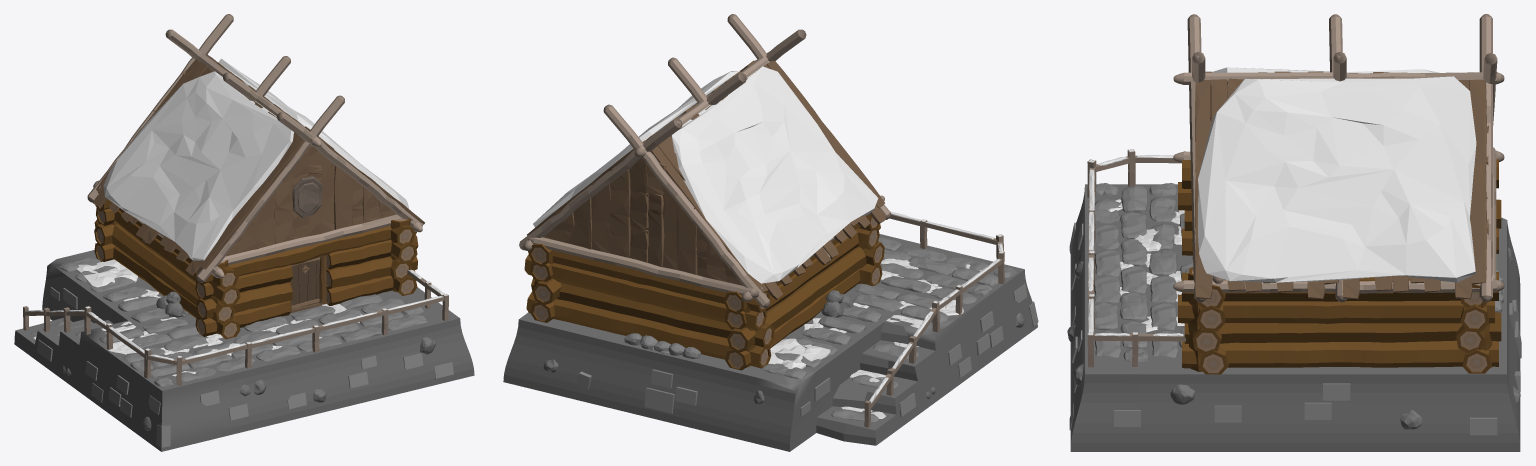
The model's file is snowyShack.fbx.
The picture shows the model from 3 angles, left to right: view 1: azimuth 30°, elevation 25°; view 2: azimuth 150°, elevation 25°; view 3: azimuth 270°, elevation 25°; orthographic projection. The views are drawn at different scales.
Parts seen in each view (by area): view 1: door1, pCube77, snowinbetween, pCube79, snow_rails; view 2: door1, pCube77, snowinbetween, pCube79, snow_rails; view 3: door1, pCube79, snow_rails, snowinbetween, pCube77.
Boxes of the visible parts, x1,y1,x2,y2 form: door1: (14,14,474,451); pCube77: (103,71,293,260); snowinbetween: (33,259,361,376); pCube79: (218,58,408,208); snow_rails: (27,270,444,360); door1: (503,14,1038,451); pCube77: (672,66,878,283); snowinbetween: (768,258,981,418); pCube79: (533,71,739,227); snow_rails: (869,211,1003,402); door1: (1067,14,1521,451); pCube79: (1198,76,1476,282); snow_rails: (1088,155,1183,336); snowinbetween: (1108,199,1184,332); pCube77: (1212,67,1439,73).
Bounding box in the file's own units: 32.29 × 26.28 × 30.74.
